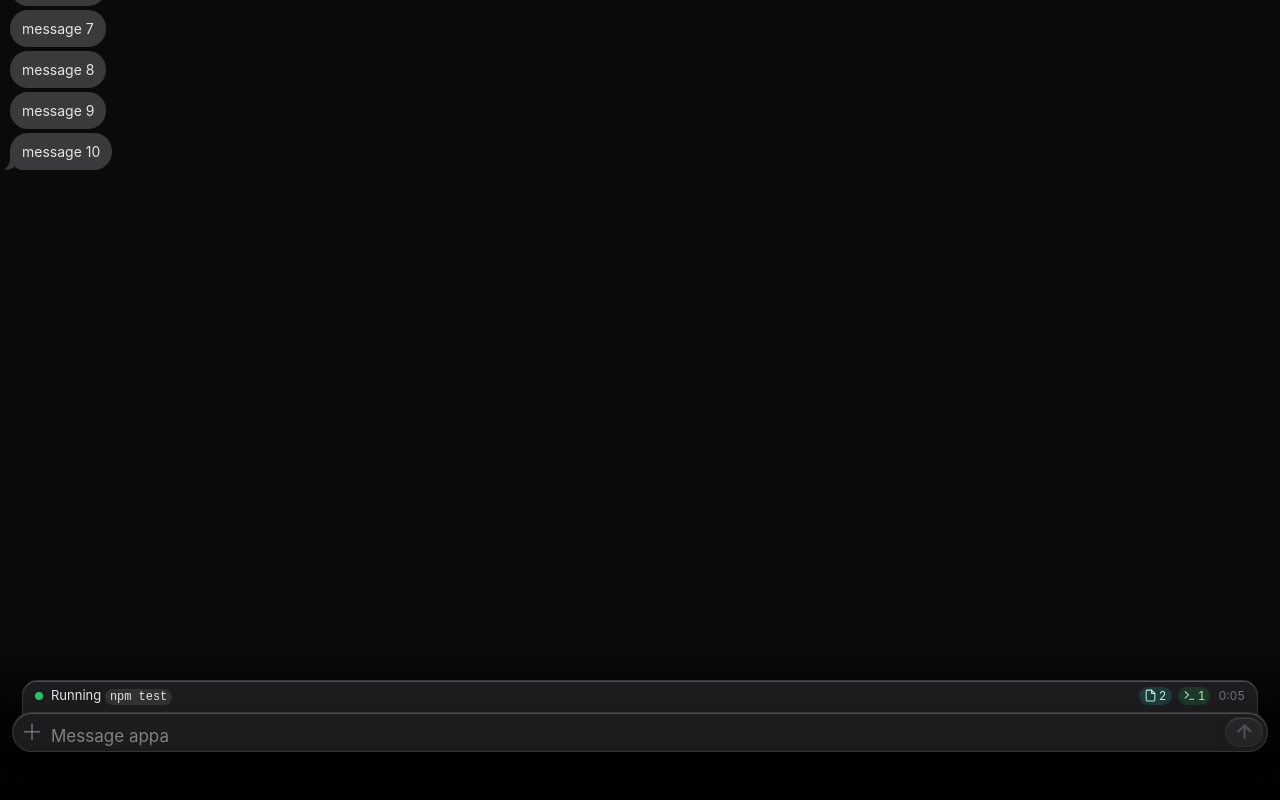
Thread follows the newest › tapping the drawer with the composer focused toggles it and keeps focus (the keyboard stays up)
The image size is (1280, 800).
(page scrolled)
pointerdown / mousedown are cancelled so the button never takes focus.
Press the mouse on the button with test id "thread-strip-toggle" at (78, 695), box [22, 680, 1258, 716]
Press the mouse on the button with test id "thread-strip-toggle" at (78, 695), box [22, 680, 1258, 716]
Click the button with test id "thread-strip-toggle" at (78, 695), box [22, 680, 1258, 716]
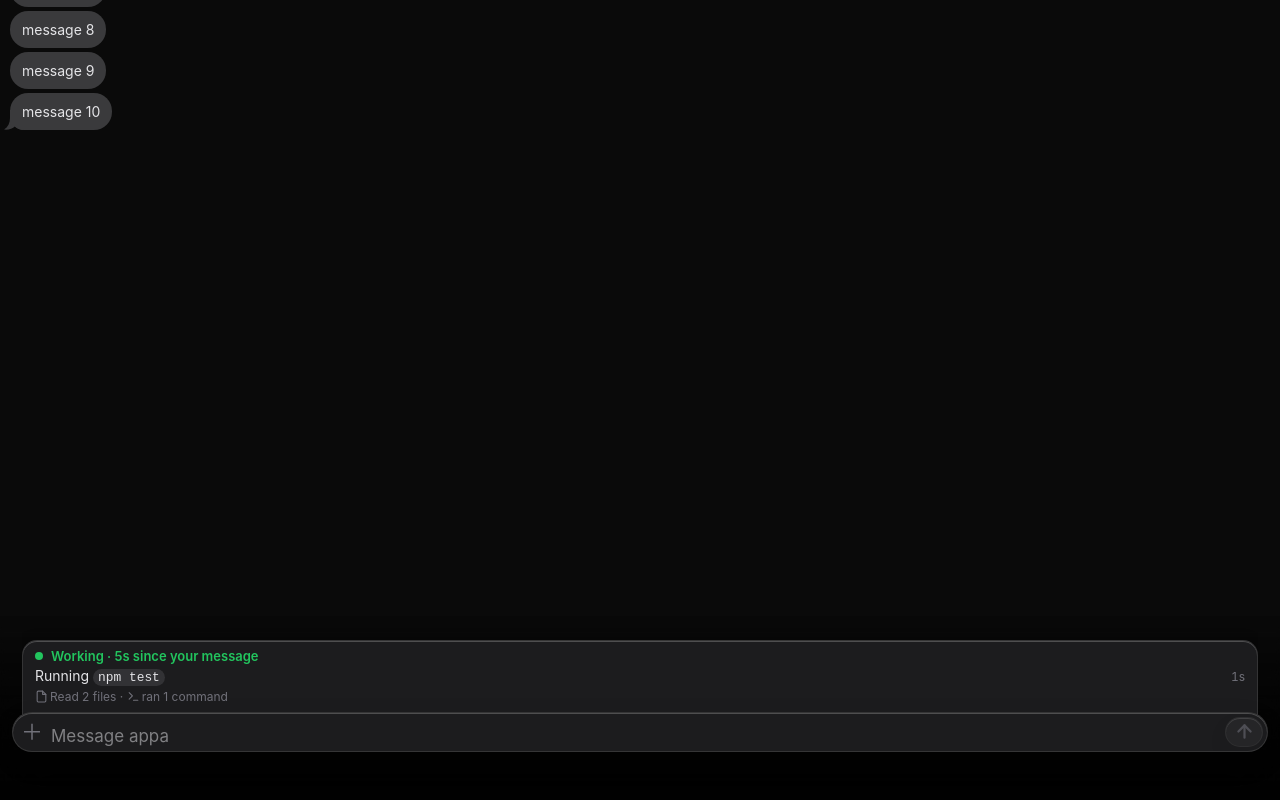
Result: the button with test id "thread-strip-toggle" is expanded
Press the mouse on the button with test id "thread-strip-toggle" at (155, 656), box [22, 640, 1258, 716]
Click the button with test id "thread-strip-toggle" at (155, 656), box [22, 640, 1258, 716]
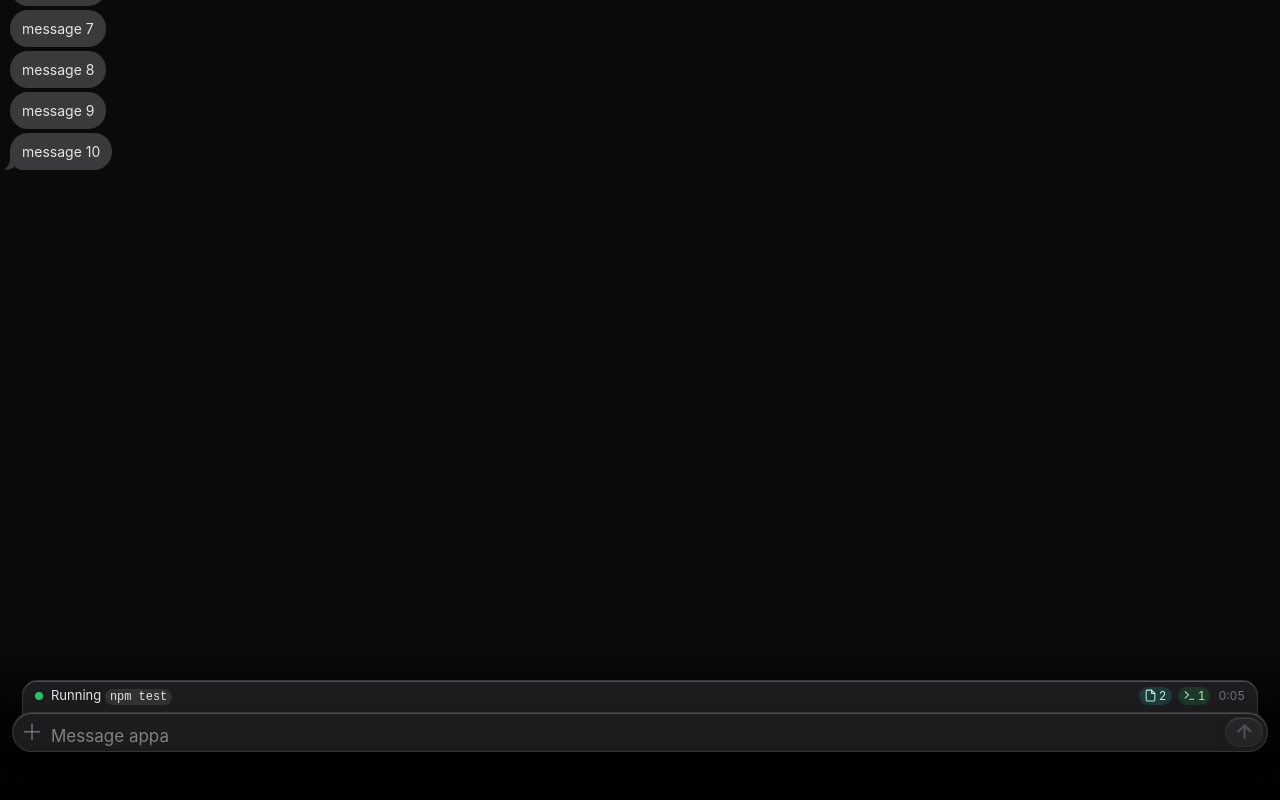
Result: the button with test id "thread-strip-toggle" is collapsed at [22, 680, 1258, 716]
